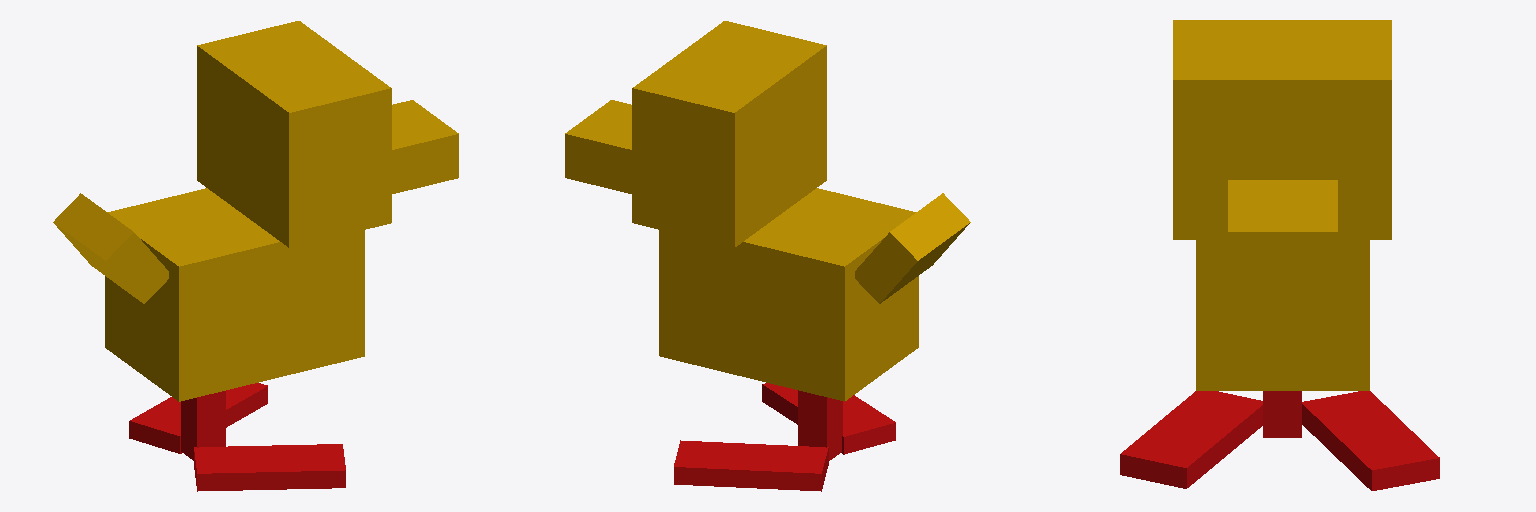
URDF robot description (docky):
<robot name="docky" version="1.0">
  <joint name="Hip_joint" type="continuous">
    <limit effort="0.00000" velocity="0.00000"/>
    <origin rpy="0.00000 0.00000 0.00000" xyz="0.00000 0.00000 1.42559"/>
    <parent link="Root"/>
    <child link="Hip"/>
    <axis xyz="0.00000 0.00000 1.00000"/>
  </joint>
  <link name="Root">
    <collision name="Feet_collision">
      <origin rpy="0.00000 0.00000 0.00000" xyz="0.47716 -0.03084 0.70689"/>
      <geometry>
        <box size="2.22490 3.62134 1.40620"/>
      </geometry>
    </collision>
    <inertial>
      <inertia ixx="0.07993" ixy="-0.00137" ixz="0.00458" iyy="0.03304" iyz="-0.00010" izz="0.09599"/>
      <origin rpy="0.00000 0.00000 0.00000" xyz="0.36409 -0.00786 0.27213"/>
      <mass value="0.10000"/>
    </inertial>
    <visual name="Feet">
      <material name="Red"/>
      <origin rpy="0.00000 0.00000 0.00000" xyz="-0.00000 -0.00000 0.00000"/>
      <geometry>
        <mesh filename="../meshes/stl/Feet.stl" scale="1.00000 0.42205 0.13092"/>
      </geometry>
    </visual>
  </link>
  <link name="Hip">
    <collision name="Body_collision">
      <origin rpy="0.00000 0.00000 0.00000" xyz="0.84065 0.00000 2.00333"/>
      <geometry>
        <box size="5.52036 2.47975 4.01113"/>
      </geometry>
    </collision>
    <inertial>
      <inertia ixx="0.14663" ixy="-0.00000" ixz="-0.04008" iyy="0.22734" iyz="-0.00000" izz="0.14960"/>
      <origin rpy="0.00000 0.00000 0.00000" xyz="0.90242 0.00000 1.86216"/>
      <mass value="0.10000"/>
    </inertial>
    <visual name="Body">
      <material name="Yellow"/>
      <origin rpy="0.00000 0.00000 0.00000" xyz="0.00000 0.00000 0.00000"/>
      <geometry>
        <mesh filename="../meshes/stl/Body.stl" scale="0.49027 0.71329 0.27273"/>
      </geometry>
    </visual>
  </link>
  <material name="Red">
    <color rgba="0.80000 0.08235 0.09020 1.00000"/>
  </material>
  <material name="Yellow">
    <color rgba="0.80000 0.61961 0.02745 1.00000"/>
  </material>
</robot>

--- Render facts (derived) ---
Views: 3 orthographic renders of the robot side by side, from view 1: azimuth 30°, elevation 25°; view 2: azimuth 150°, elevation 25°; view 3: azimuth 270°, elevation 25°.
Robot: docky — 2 links, 1 joints (1 continuous); root link Root; default pose: all joints at 0.
Visible links, largest first — view 1: Hip, Root; view 2: Hip, Root; view 3: Hip, Root.
Boxes of the visible links, x1,y1,x2,y2 form: Hip: (53, 21, 458, 401); Root: (129, 383, 345, 491); Hip: (565, 21, 970, 401); Root: (674, 383, 895, 491); Hip: (1173, 20, 1391, 390); Root: (1120, 391, 1439, 490).
Size in the robot's own frame: 5.52 by 3.62 by 5.43 metres.
2 mesh visuals loaded from 2 distinct referenced files (2 binary STL).